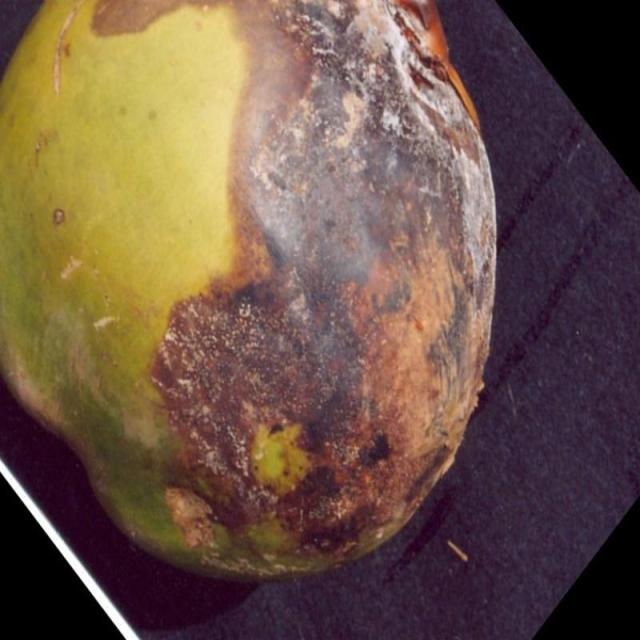damaged: (0, 0, 498, 591)
